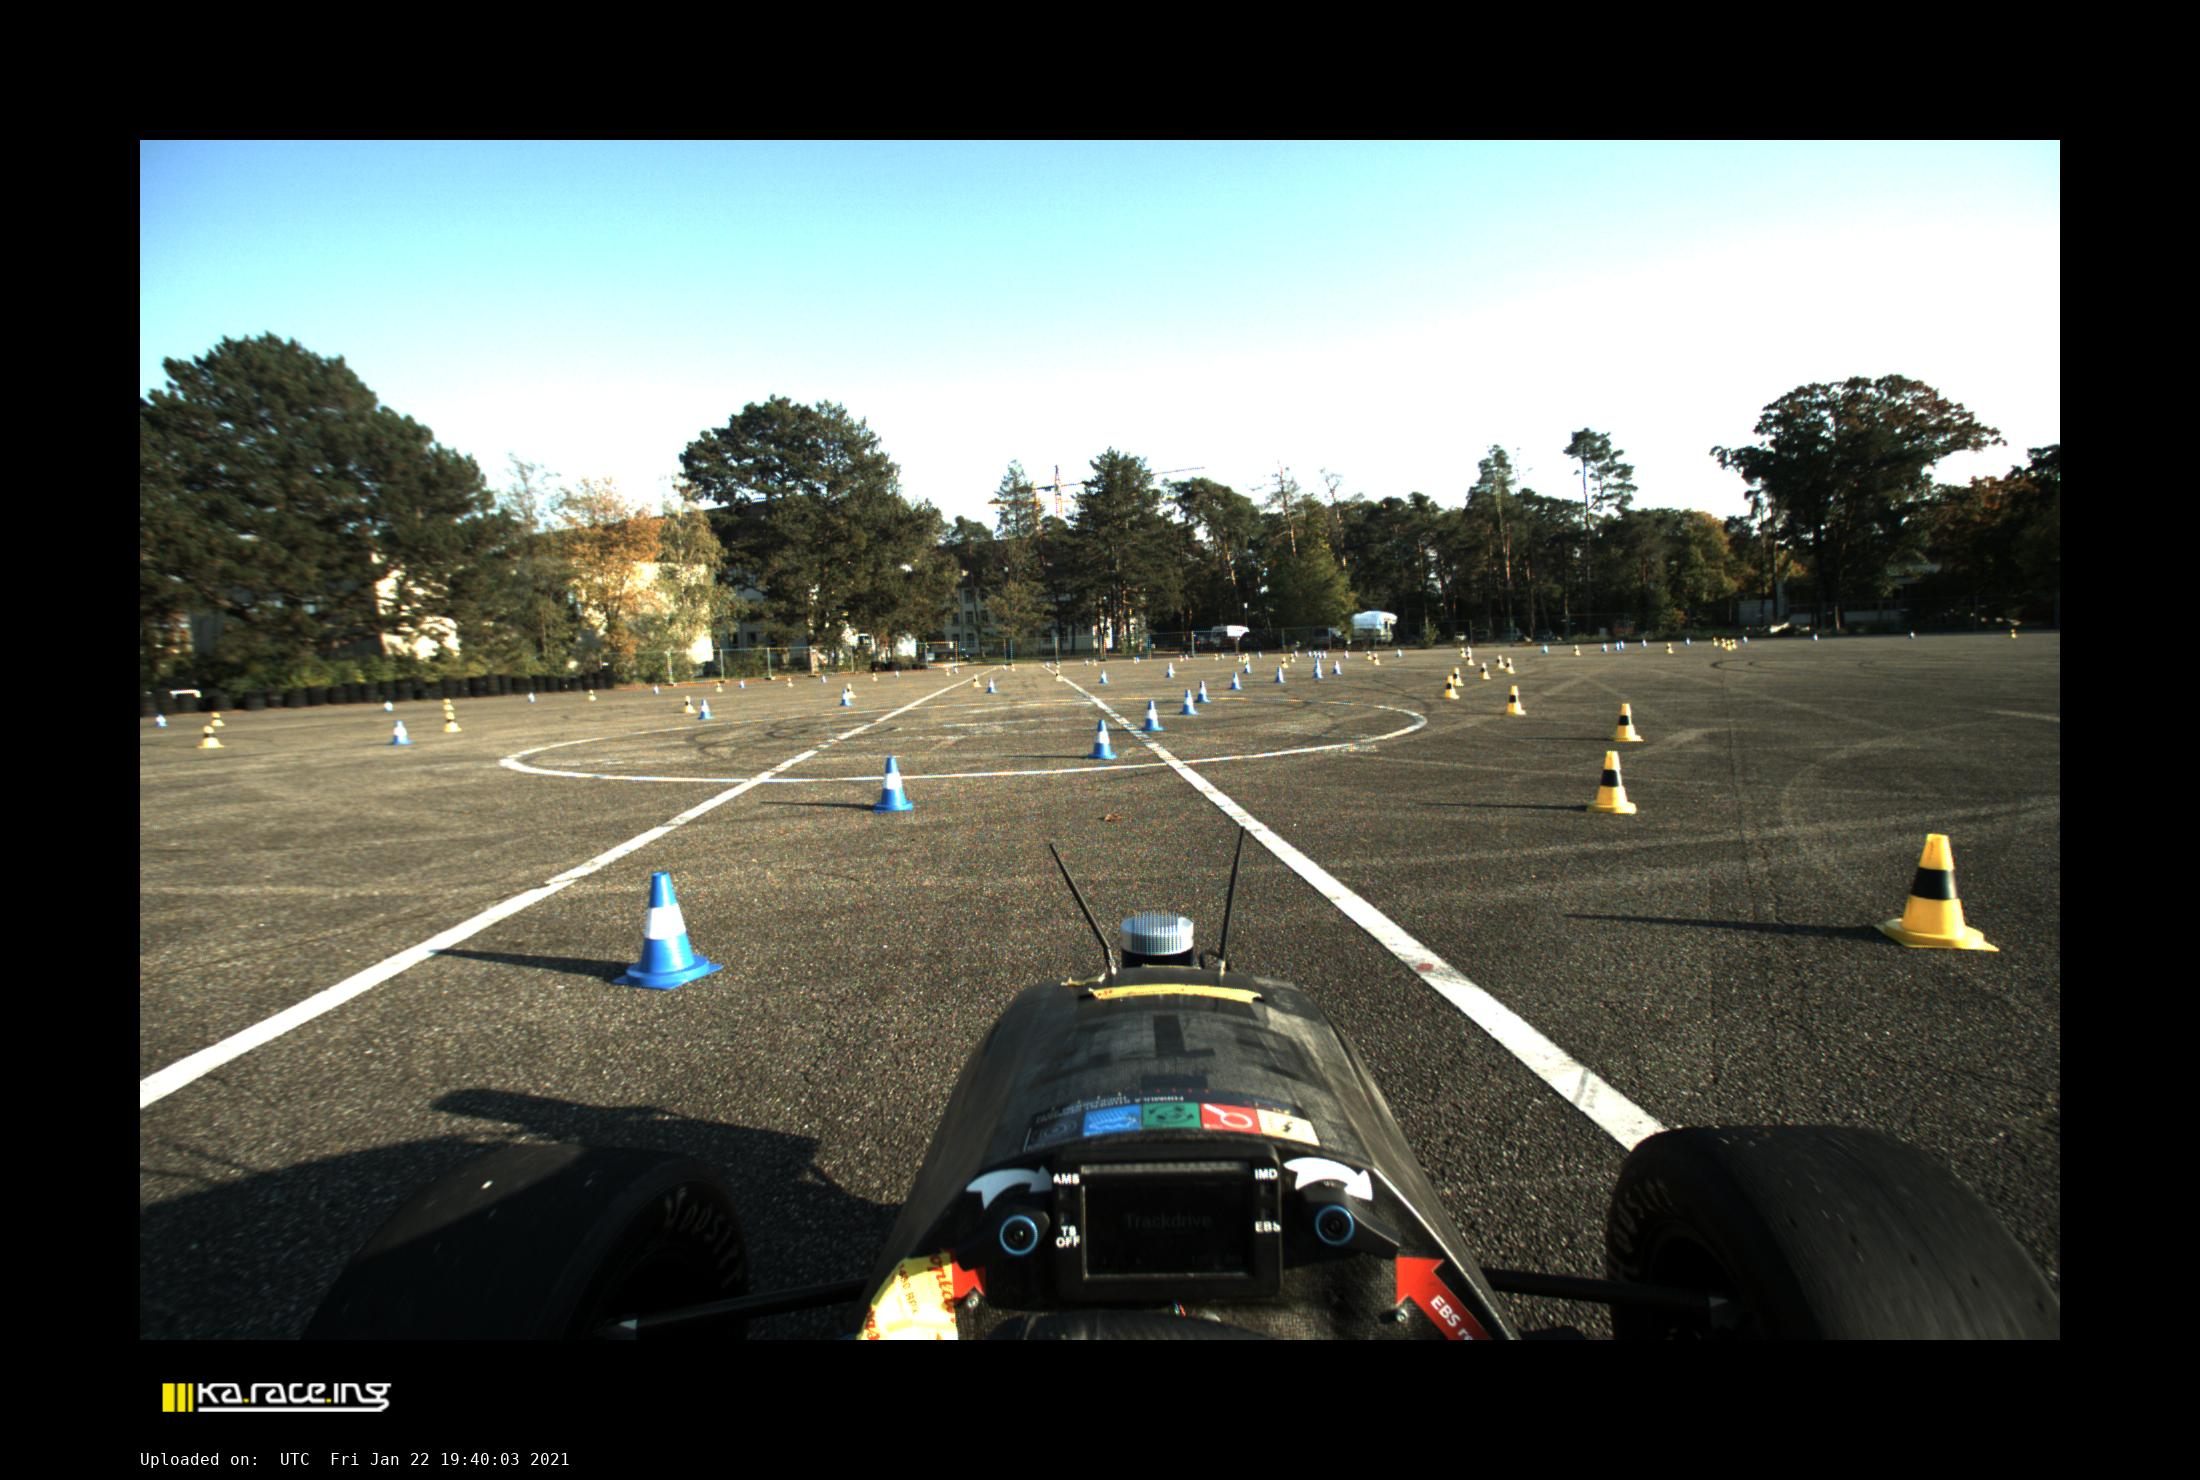blue_cone: (614, 872, 723, 989), (875, 757, 913, 813), (1087, 720, 1117, 760), (1140, 700, 1164, 732), (390, 720, 411, 743), (1179, 689, 1197, 715), (1194, 681, 1211, 704), (697, 699, 714, 719), (839, 689, 852, 705), (1229, 672, 1242, 689), (984, 677, 998, 692), (1273, 667, 1287, 682), (1331, 661, 1343, 674), (155, 714, 167, 727), (1098, 671, 1108, 684), (1313, 664, 1323, 677), (1164, 666, 1173, 677), (1311, 659, 1320, 671), (527, 692, 535, 702), (1244, 662, 1252, 672)
yellow_cone: (1875, 832, 1998, 951), (1587, 752, 1637, 814), (1610, 704, 1643, 742), (1503, 685, 1528, 715), (198, 725, 225, 748), (1440, 676, 1458, 699), (444, 710, 461, 732), (1477, 662, 1491, 681), (684, 695, 697, 714), (211, 710, 225, 727), (1452, 667, 1463, 685), (1505, 657, 1516, 674), (846, 682, 857, 699), (971, 672, 981, 689), (1495, 654, 1505, 667), (1665, 641, 1675, 652), (1572, 643, 1581, 656), (1364, 649, 1373, 661), (1280, 656, 1288, 667), (586, 689, 595, 700), (1168, 661, 1174, 672), (1054, 669, 1060, 681), (1373, 652, 1377, 662)
